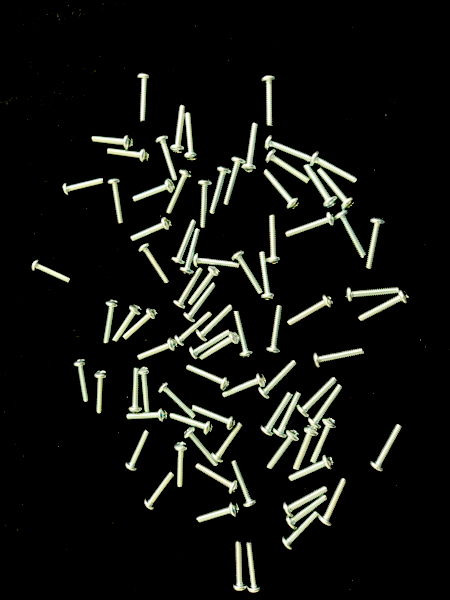longscrew: (358, 289, 411, 323), (297, 376, 339, 418), (317, 167, 357, 211), (370, 423, 405, 473), (308, 383, 345, 430), (310, 151, 359, 185), (263, 168, 301, 211), (335, 210, 367, 261), (266, 149, 311, 185), (304, 164, 339, 210), (258, 360, 298, 400), (281, 510, 320, 551), (287, 294, 334, 328), (260, 391, 294, 437), (283, 484, 329, 518), (158, 381, 197, 420), (231, 250, 264, 296), (285, 495, 328, 530), (265, 134, 315, 164), (319, 477, 349, 527), (196, 304, 234, 343), (174, 311, 214, 348), (184, 427, 220, 468), (267, 429, 302, 471), (183, 282, 218, 323), (285, 212, 336, 240), (310, 417, 340, 464), (195, 463, 239, 495), (188, 266, 222, 307), (273, 391, 302, 439), (138, 243, 171, 285), (212, 421, 245, 463), (289, 453, 335, 483), (231, 460, 259, 509), (173, 266, 204, 310), (189, 329, 231, 360), (122, 307, 159, 342), (199, 331, 240, 362), (192, 404, 237, 432), (111, 304, 143, 343), (365, 217, 388, 271), (167, 169, 194, 214), (222, 372, 267, 399), (186, 364, 231, 391), (293, 426, 320, 471), (144, 471, 175, 510), (223, 156, 247, 206), (172, 219, 197, 266), (125, 429, 152, 472), (155, 135, 179, 183), (232, 309, 255, 359), (131, 216, 173, 243), (169, 412, 214, 437), (196, 501, 241, 526), (313, 347, 366, 368), (209, 167, 232, 215), (132, 179, 176, 203), (180, 229, 202, 276), (31, 259, 72, 284), (241, 122, 261, 173), (265, 304, 285, 355), (345, 285, 400, 303), (137, 337, 178, 361), (246, 540, 264, 594), (261, 75, 278, 129), (170, 105, 188, 155), (259, 251, 277, 301), (62, 177, 106, 197), (102, 299, 121, 345), (266, 214, 283, 265), (107, 178, 125, 226), (197, 179, 214, 229), (193, 252, 240, 270), (73, 358, 91, 404), (233, 539, 248, 593), (183, 111, 199, 161), (173, 441, 190, 488), (125, 407, 169, 424), (127, 367, 143, 413), (94, 370, 110, 415), (91, 134, 135, 150), (106, 148, 150, 164), (138, 367, 153, 413), (138, 73, 150, 123)
